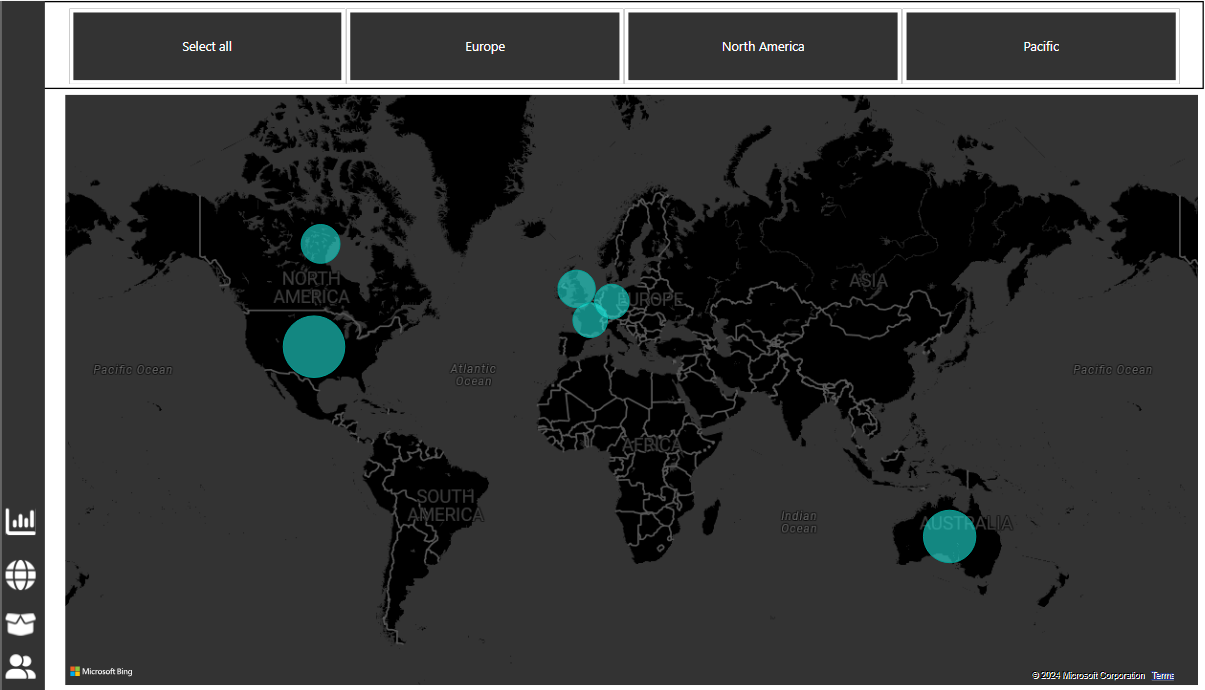

The dashboard page shown, as its layout file describes it:
{"tool":"powerbi","page":{"name":"Maps","canvas":[1280,720],"ordinal":1},"visuals":[{"type":"shape","box":[0,0,44.6,720.5],"z":0},{"type":"map","fields":{"Category":["Territory Lookup.Country"],"Size":["Measure Table.Total Order"]},"box":[63,92.6,1194.4,627.8],"z":1000},{"type":"actionButton","box":[1.2,569.4,100,39.8],"z":1000,"group":"g1"},{"type":"actionButton","box":[1.2,579.5,100,39.8],"z":1000,"group":"g2"},{"type":"slicer","fields":{"Values":["Territory Lookup.Continent"]},"box":[44.4,0,1213,92.6],"z":2000},{"type":"actionButton","box":[1.2,621.7,100,39.8],"z":2000,"group":"g1"},{"type":"actionButton","box":[1.2,631.8,100,39.8],"z":2000,"group":"g2"},{"type":"group","id":"g1","title":"NAV Buttons","box":[1.2,514,100,190.9],"z":3000},{"type":"actionButton","box":[1.2,665.1,100,39.8],"z":3000,"group":"g1"},{"type":"actionButton","box":[1.2,675.2,100,39.8],"z":3000,"group":"g2"},{"type":"shape","title":"Left Nav Background","box":[1.2,0,45.8,720.5],"z":4000},{"type":"actionButton","box":[1.2,514,100,39.8],"z":4000,"group":"g1"},{"type":"actionButton","box":[1.2,524.1,100,39.8],"z":4000,"group":"g2"},{"type":"group","id":"g2","title":"NAV Buttons","box":[1.2,524.1,100,190.4],"z":5000}]}

Visuals, with their boxes on the page's 1280x720 design canvas (x1, y1, x2, y2). These are canvas units, not pixel positions in the 1205x690 screenshot, which may show the page scaled, cropped or inside an application window:
shape: region(0, 0, 45, 720)
map - Territory Lookup.Country x Measure Table.Total Order: region(63, 93, 1257, 720)
actionButton: region(1, 569, 101, 609)
actionButton: region(1, 580, 101, 619)
slicer - Territory Lookup.Continent: region(44, 0, 1257, 93)
actionButton: region(1, 622, 101, 662)
actionButton: region(1, 632, 101, 672)
"NAV Buttons" group: region(1, 514, 101, 705)
actionButton: region(1, 665, 101, 705)
actionButton: region(1, 675, 101, 715)
"Left Nav Background" shape: region(1, 0, 47, 720)
actionButton: region(1, 514, 101, 554)
actionButton: region(1, 524, 101, 564)
"NAV Buttons" group: region(1, 524, 101, 714)
